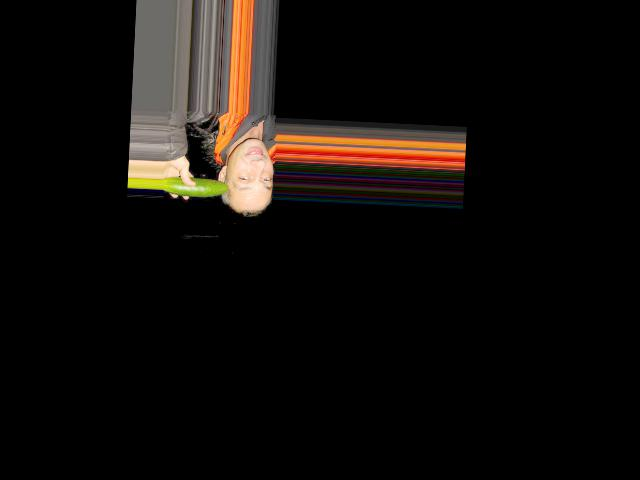cucumber: (162, 176, 229, 198)
